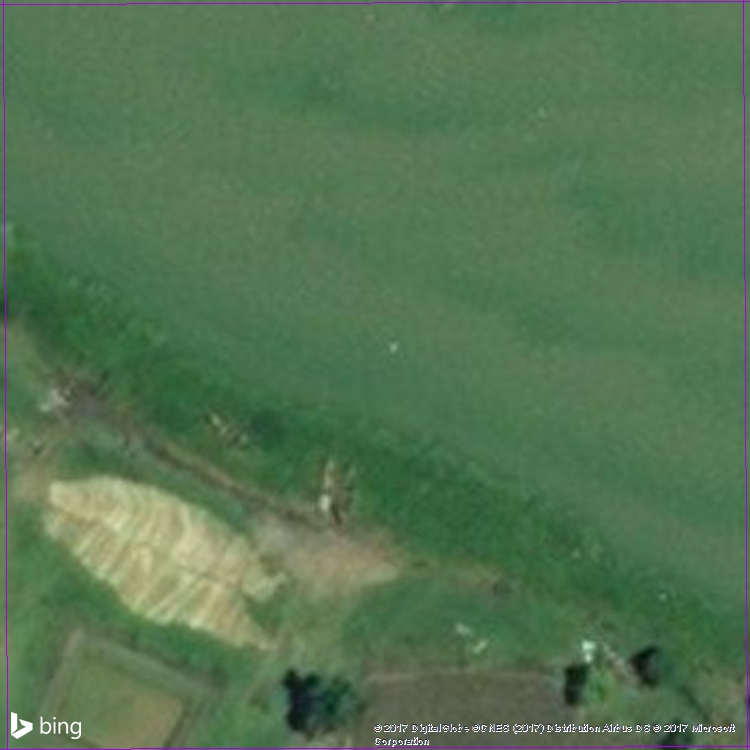boat: (192, 400, 261, 459), (309, 448, 341, 534), (331, 448, 362, 534)
